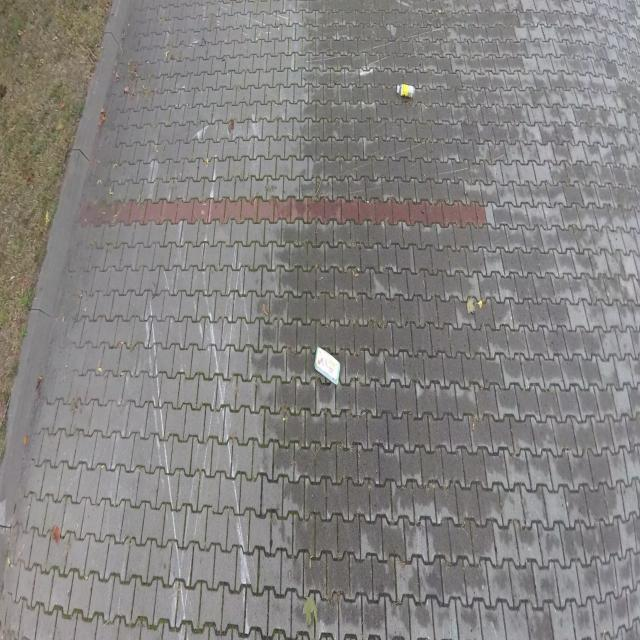rubbish: (313, 345, 341, 387), (396, 83, 415, 98)
